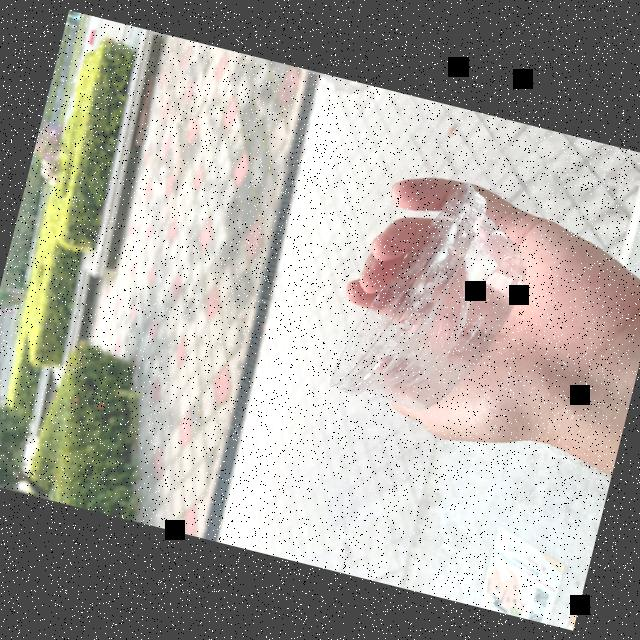plastic_cup_lid: (320, 159, 540, 433)
